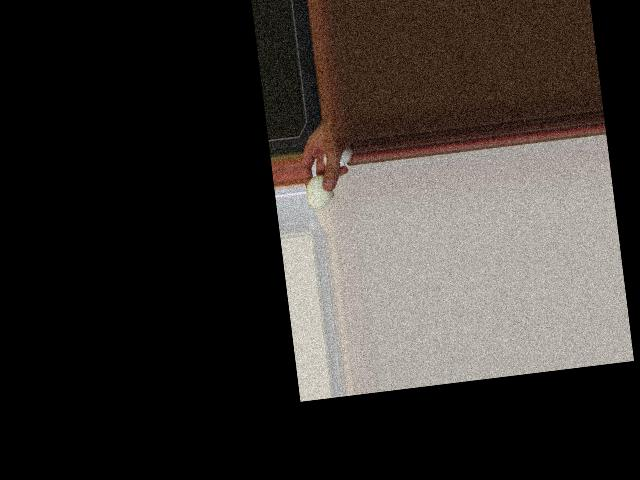egg: (304, 174, 335, 210)
